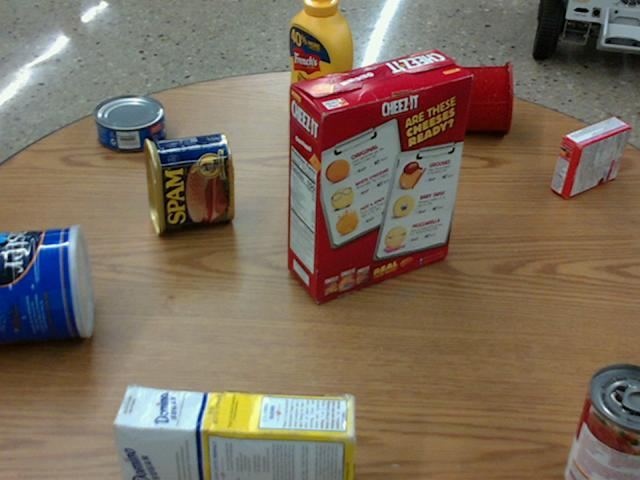cracker_box: (287, 48, 471, 301)
gelatin_box: (551, 118, 630, 199)
master_chef_can: (0, 224, 94, 343)
mug: (442, 59, 512, 133)
mustard_bottle: (288, 0, 351, 140)
potted_meat_can: (143, 131, 232, 232)
sugar_box: (109, 387, 355, 479)
tomato_soup_can: (565, 361, 639, 479)
tuna_fish_can: (94, 94, 165, 150)
